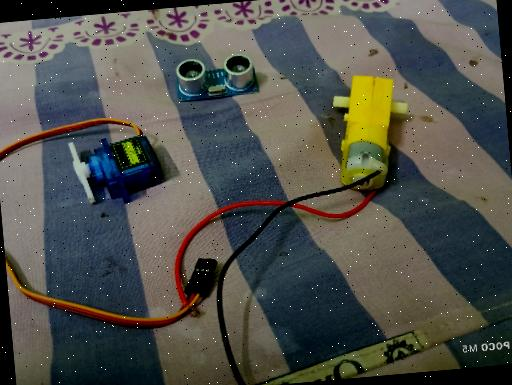Motor: (329, 69, 415, 192), (67, 131, 166, 208)
sensor: (174, 51, 260, 102)
